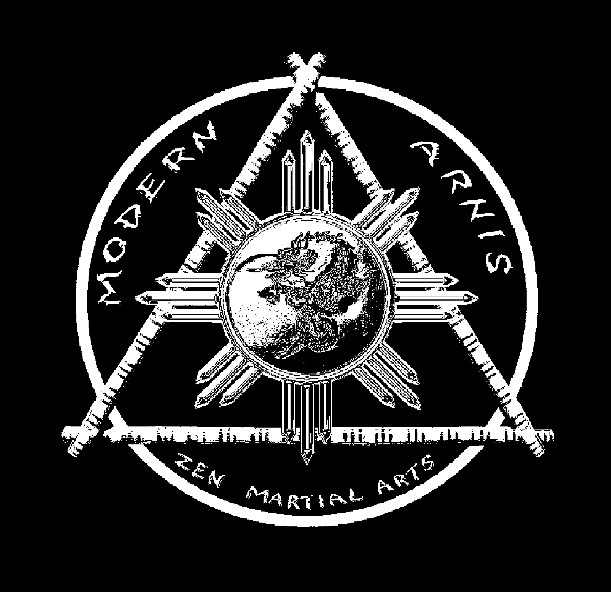baston_e: (290, 72, 533, 424), (86, 76, 298, 408), (110, 420, 497, 458)
baston_v: (521, 436, 554, 479), (58, 439, 91, 472), (54, 415, 82, 450), (539, 422, 566, 454), (304, 46, 338, 69), (279, 50, 308, 69)
